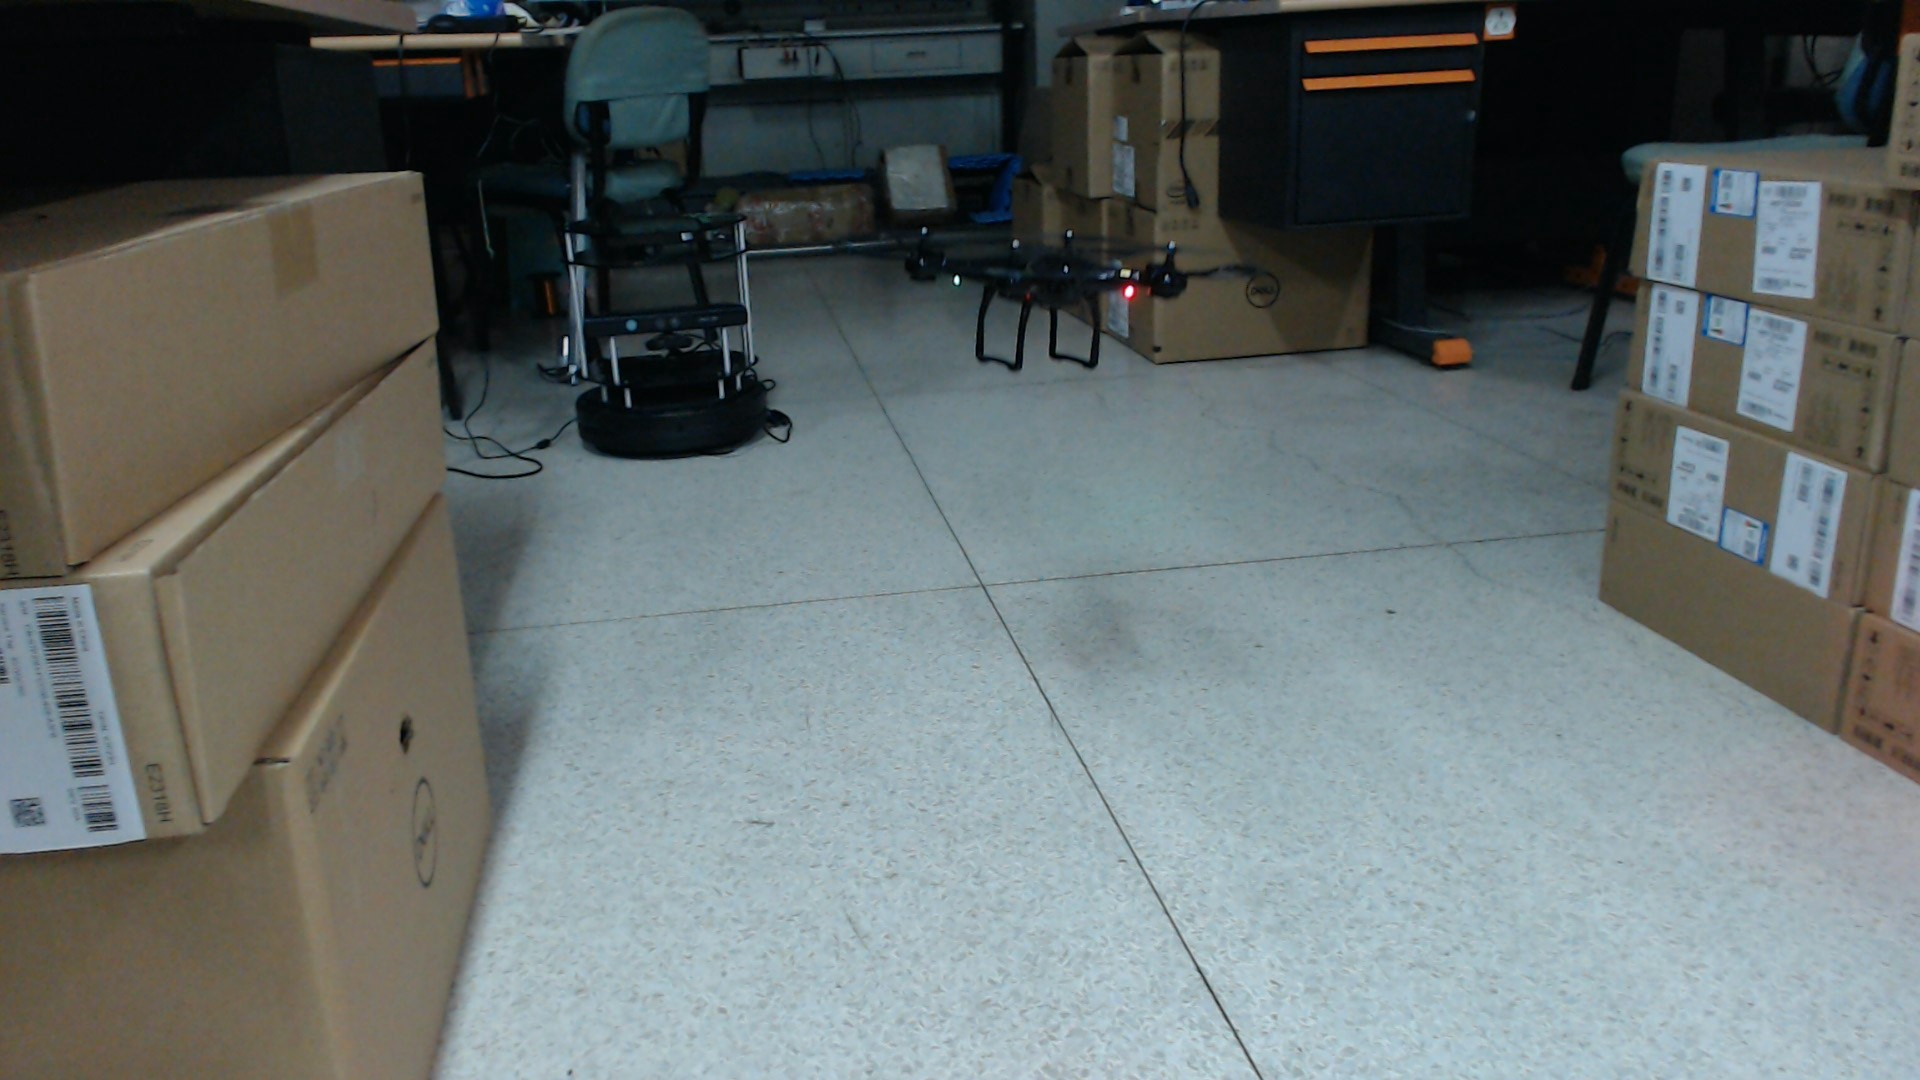test_drone: (858, 204, 1263, 373)
